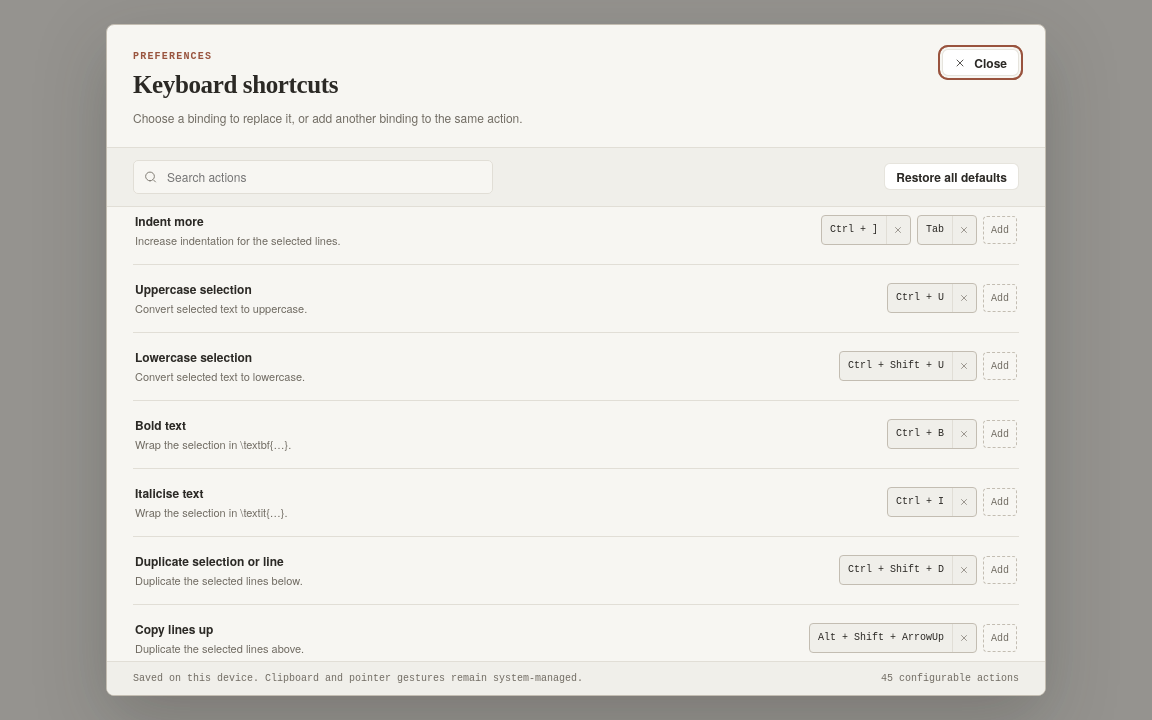
Test case: ShortcutSettingsDialog › prevents conflicting workspace bindings
(page scrolled)
Click the button with aria-label "Change Bold text".
click(920, 434)  # box x1=888 y1=420 x2=952 y2=448
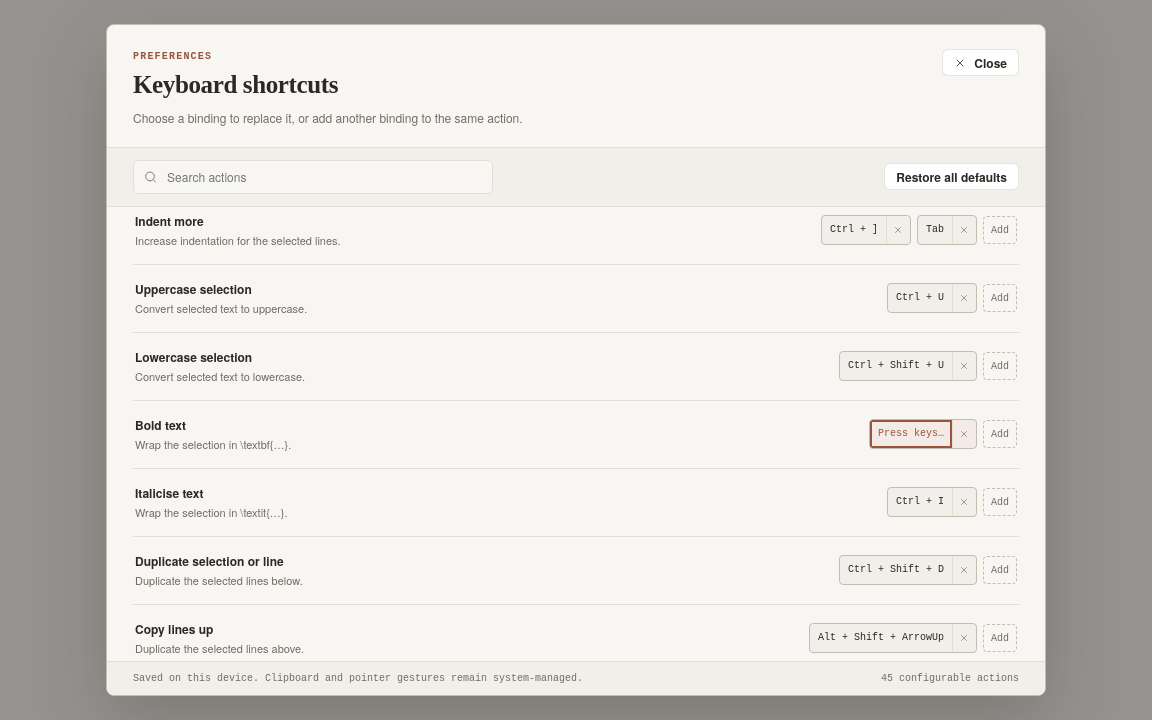
Press s in the button with aria-label "Change Bold text", box x1=870 y1=420 x2=952 y2=448
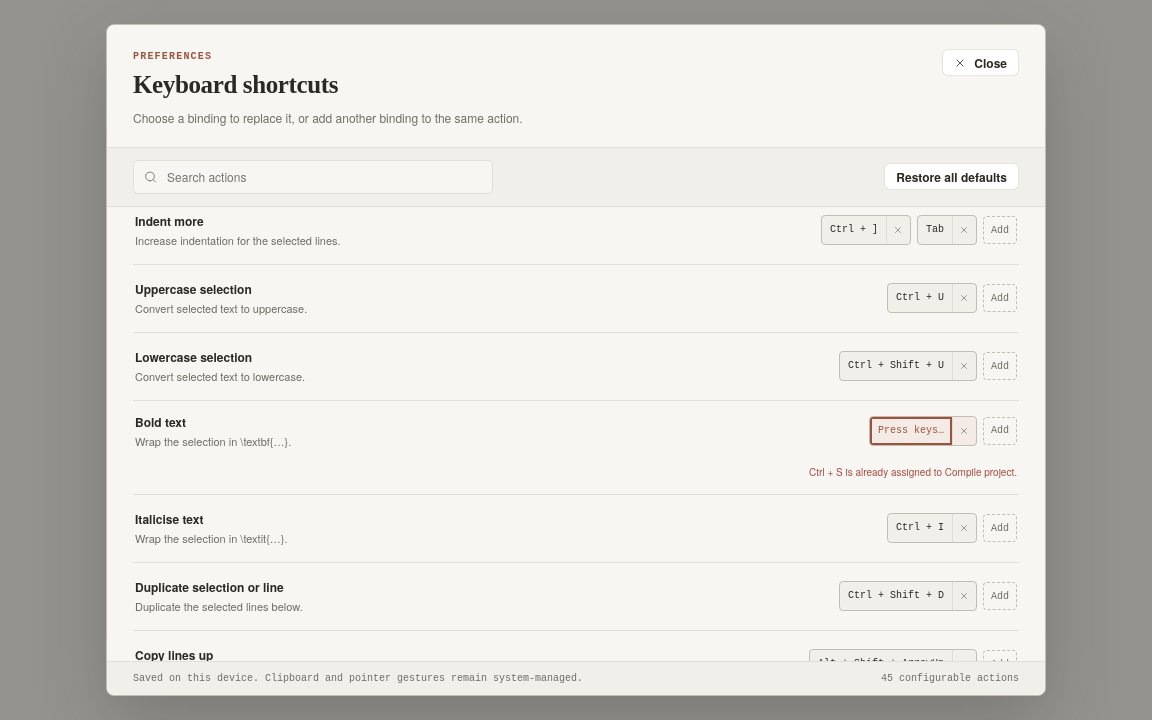
Now the message shows "Ctrl + S is already assigned to Compile project", box x1=809 y1=465 x2=1017 y2=479
